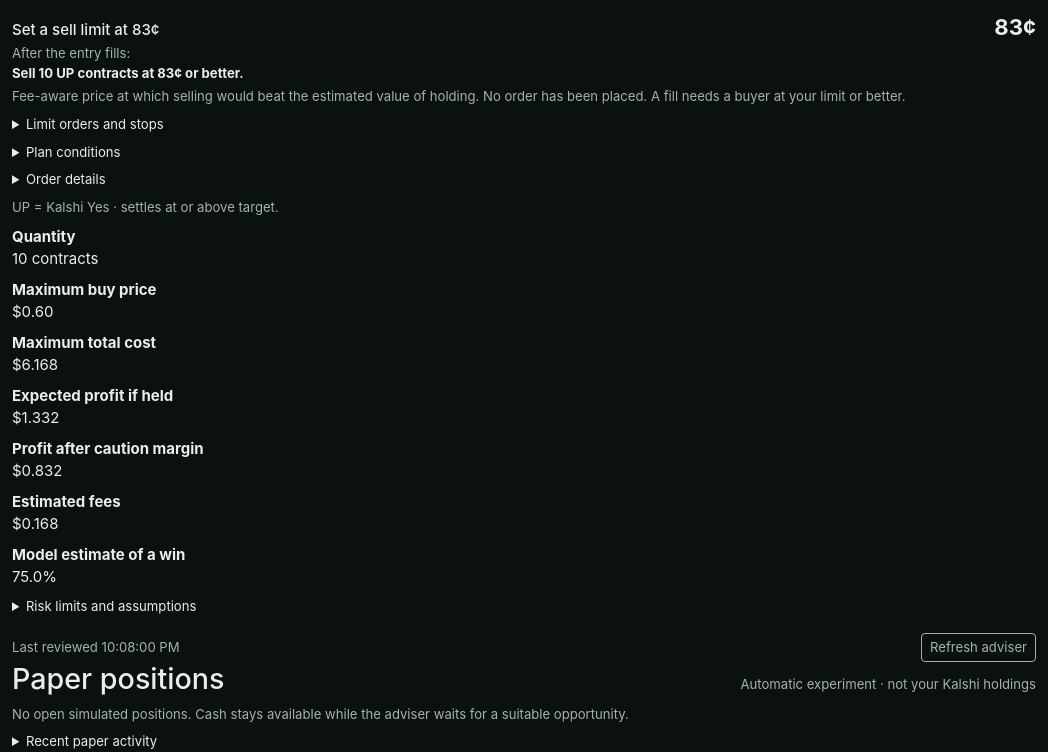
Test: distinguishes suggestions, simulated fills, unfilled orders and completed outcomes in activity
(page scrolled)
Click the heading "Recent paper activity". click: (92, 741)
box: left=26, top=733, right=157, bottom=749
(page scrolled)
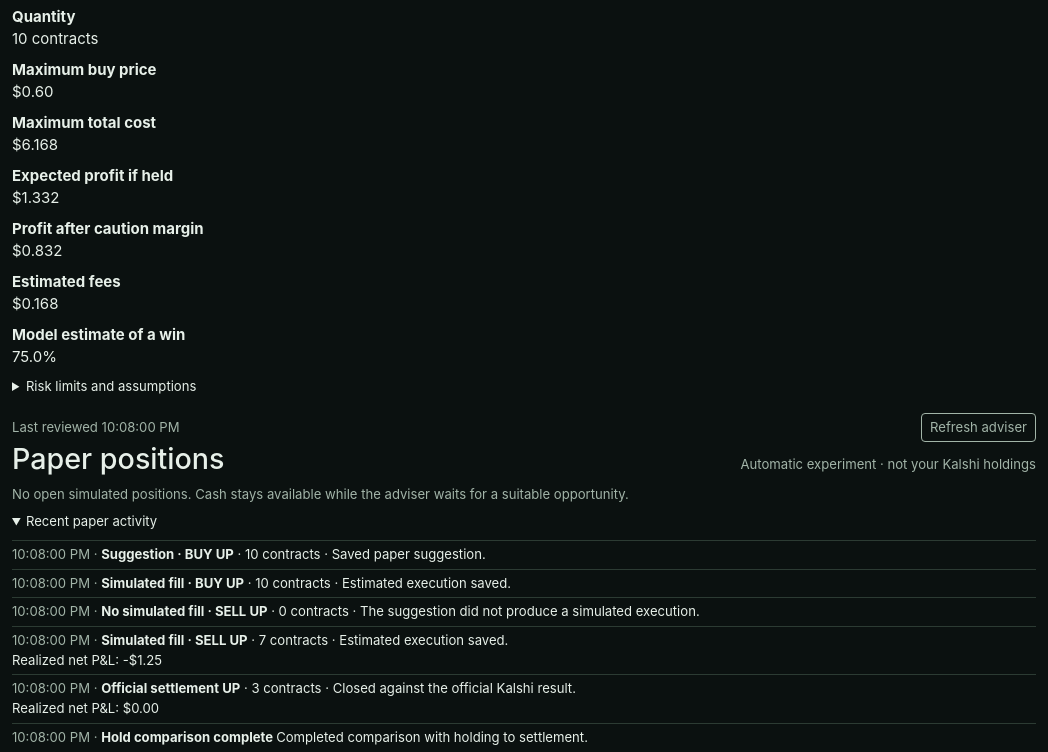
Expected: the text "Suggestion · BUY UP" is shown, left=101, top=546, right=234, bottom=562
Expected: the text "Simulated fill · BUY UP" is shown, left=101, top=575, right=244, bottom=591
Expected: the text "No simulated fill · SELL UP" is shown, left=101, top=603, right=267, bottom=619
